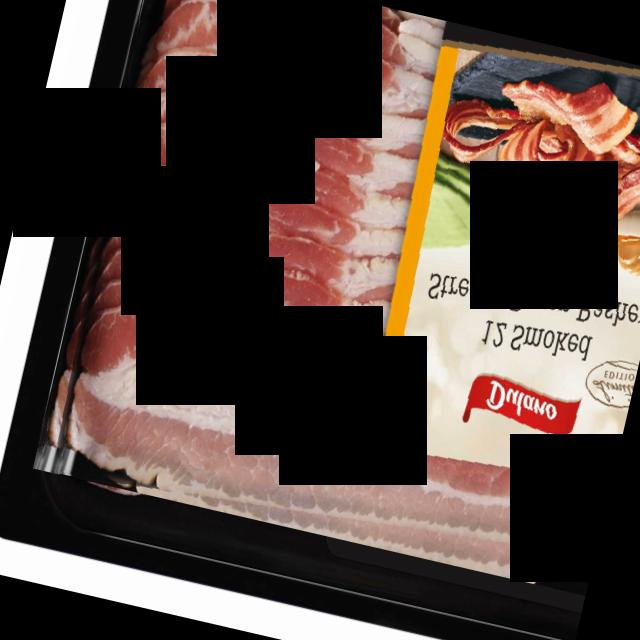bacon: (32, 0, 640, 595)
